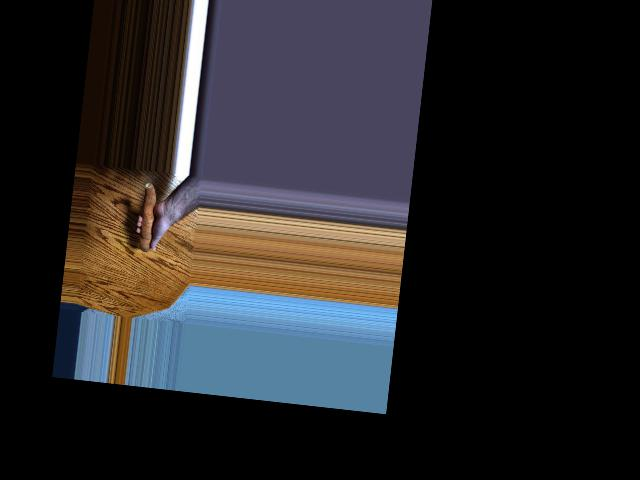sweet_potato: (137, 181, 165, 254)
